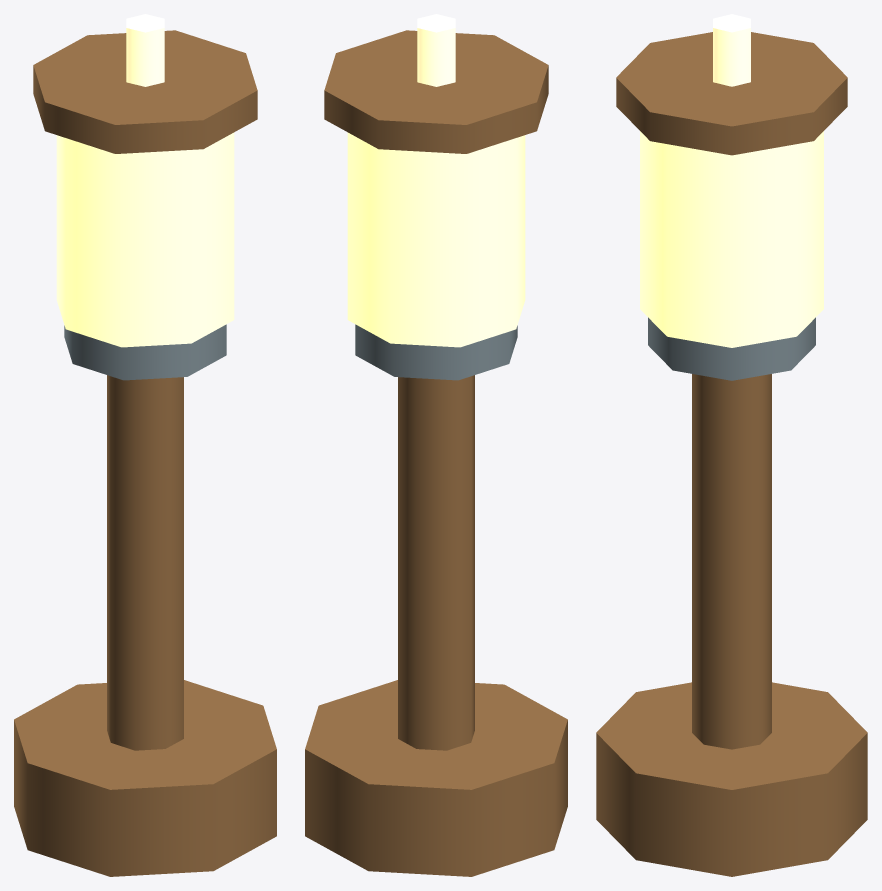
The model's file is quay-lantern.lod2.glb.
3 views of the same model, side by side, from view 1: azimuth 30°, elevation 25°; view 2: azimuth 150°, elevation 25°; view 3: azimuth 270°, elevation 25° (orthographic).
Visible parts, largest first — view 1: structure, glow; view 2: structure, glow; view 3: structure, glow.
Boxes of the visible parts, left/top/right/bottom form: structure: left=14, top=14, right=276, bottom=876; glow: left=56, top=132, right=234, bottom=347; structure: left=305, top=14, right=567, bottom=876; glow: left=347, top=132, right=525, bottom=347; structure: left=596, top=14, right=867, bottom=876; glow: left=640, top=131, right=823, bottom=347.
Size of the model in its own units: 0.68 by 2.2 by 0.68.
